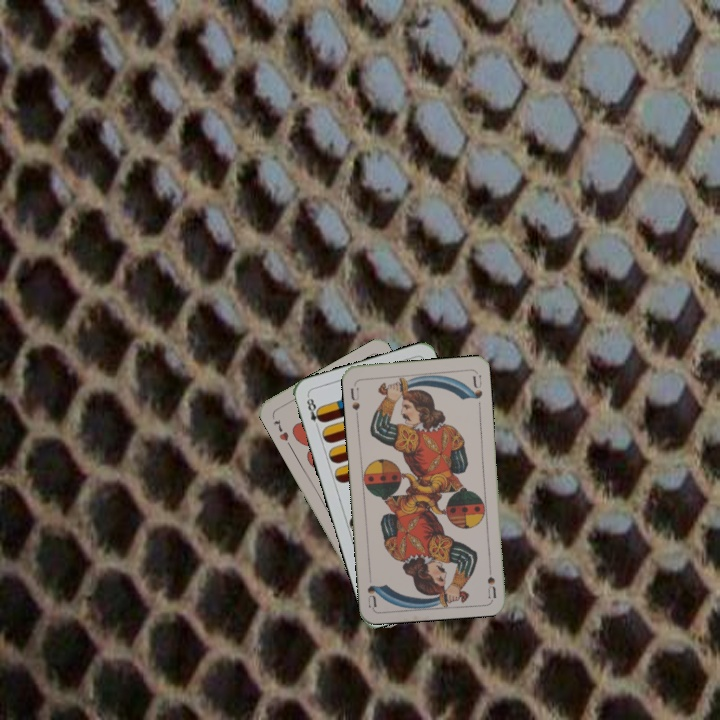E8: (302, 392, 325, 432)
H7: (269, 415, 291, 444)
SU: (483, 559, 499, 599), (346, 383, 362, 420)
